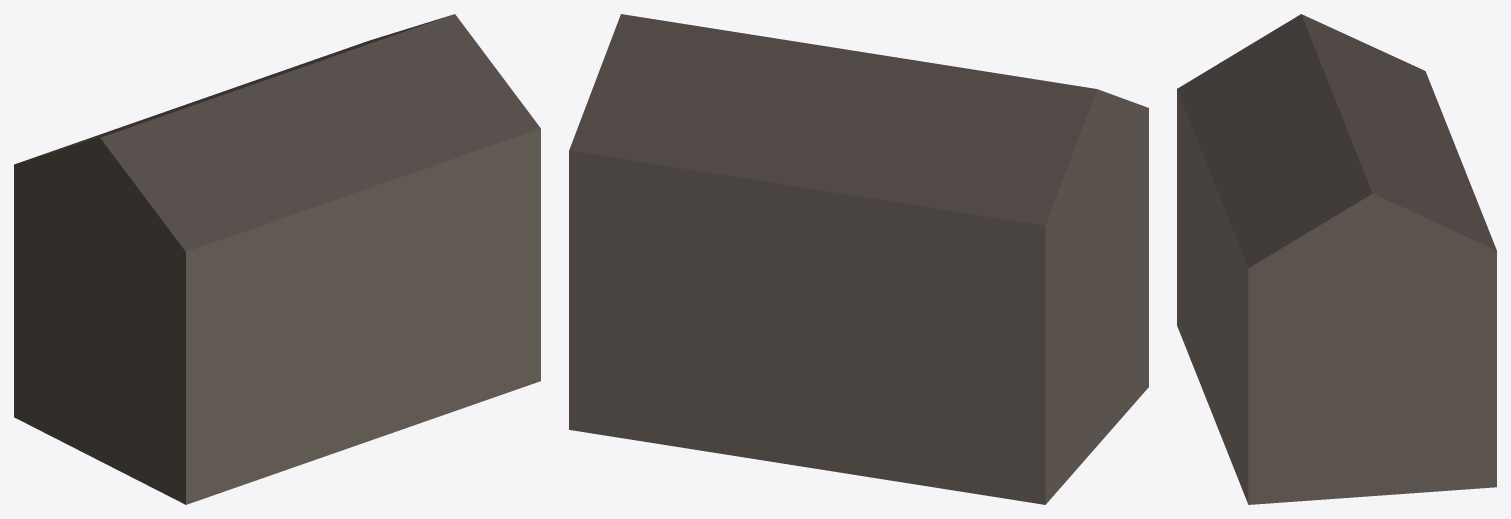
The picture shows the model from 3 angles, left to right: view 1: azimuth 30°, elevation 25°; view 2: azimuth 150°, elevation 25°; view 3: azimuth 270°, elevation 25°; orthographic projection. The views are drawn at different scales.
Parts seen in each view (by area): view 1: HP-w1424106448; view 2: HP-w1424106448; view 3: HP-w1424106448.
Part boxes in pixels (x1,y1,x2,y2): HP-w1424106448: [14, 14, 540, 504]; HP-w1424106448: [569, 14, 1148, 504]; HP-w1424106448: [1177, 14, 1496, 504].
Bounding box in the file's own units: 10.73 × 7.67 × 7.35.
